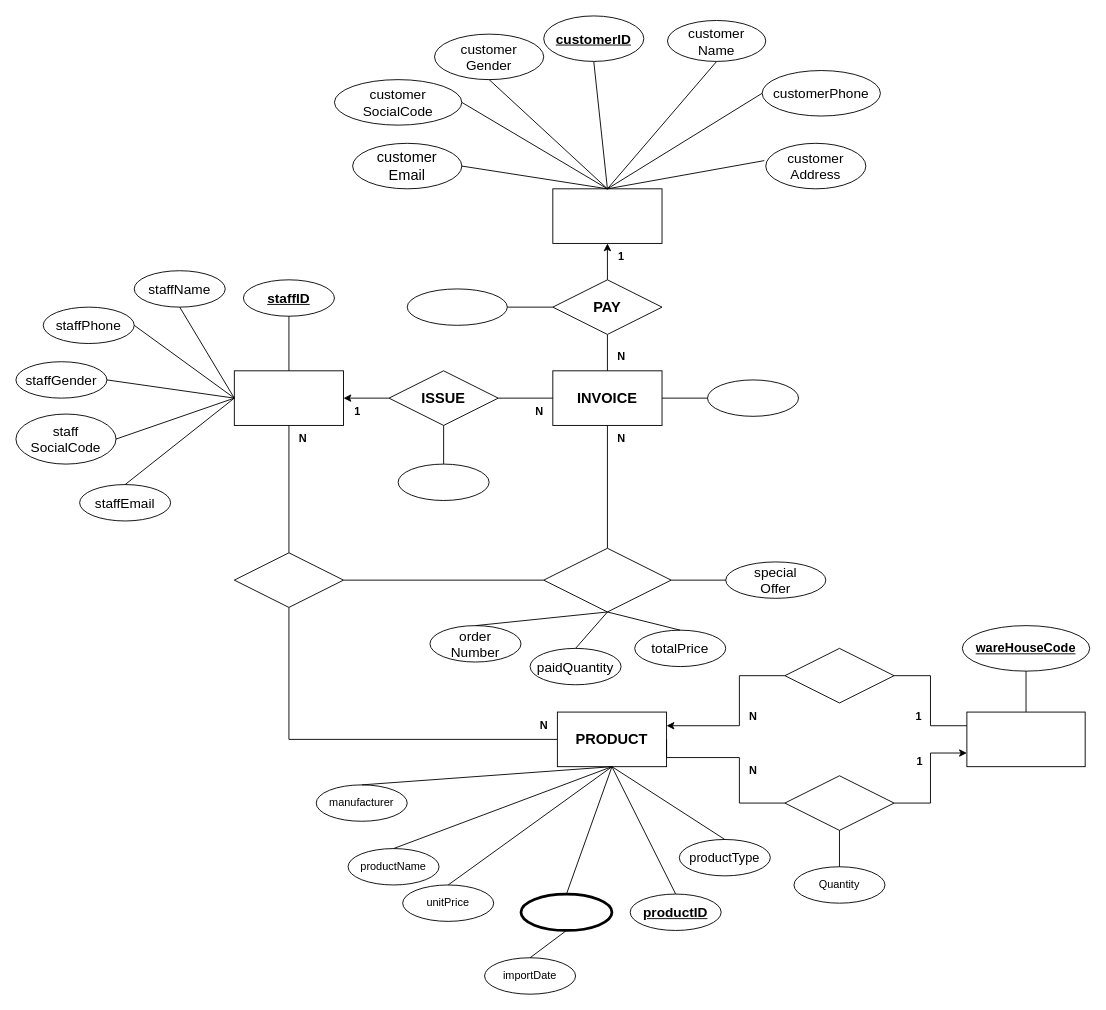
Some shapes in this 1106 by 1010 pixel diagram are drawn without their labels. Here are the shapes that lost their labels. From the top down, the centre of each, then its label:
[607,215]: CUSTOMER
[456,306]: payment Method
[288,397]: STAFF
[753,397]: invoiceNo
[443,481]: issued Date
[288,579]: TAKE
[607,579]: INPUT INFO
[839,675]: PROVIDES
[1025,739]: WAREHOUSE
[839,802]: STORED
[566,911]: batchCode
